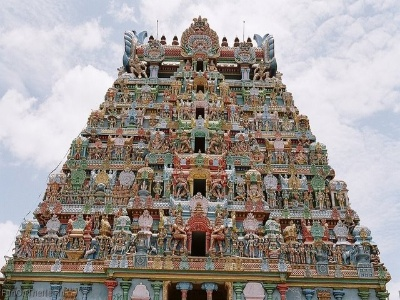gopura: (38, 30, 371, 276)
